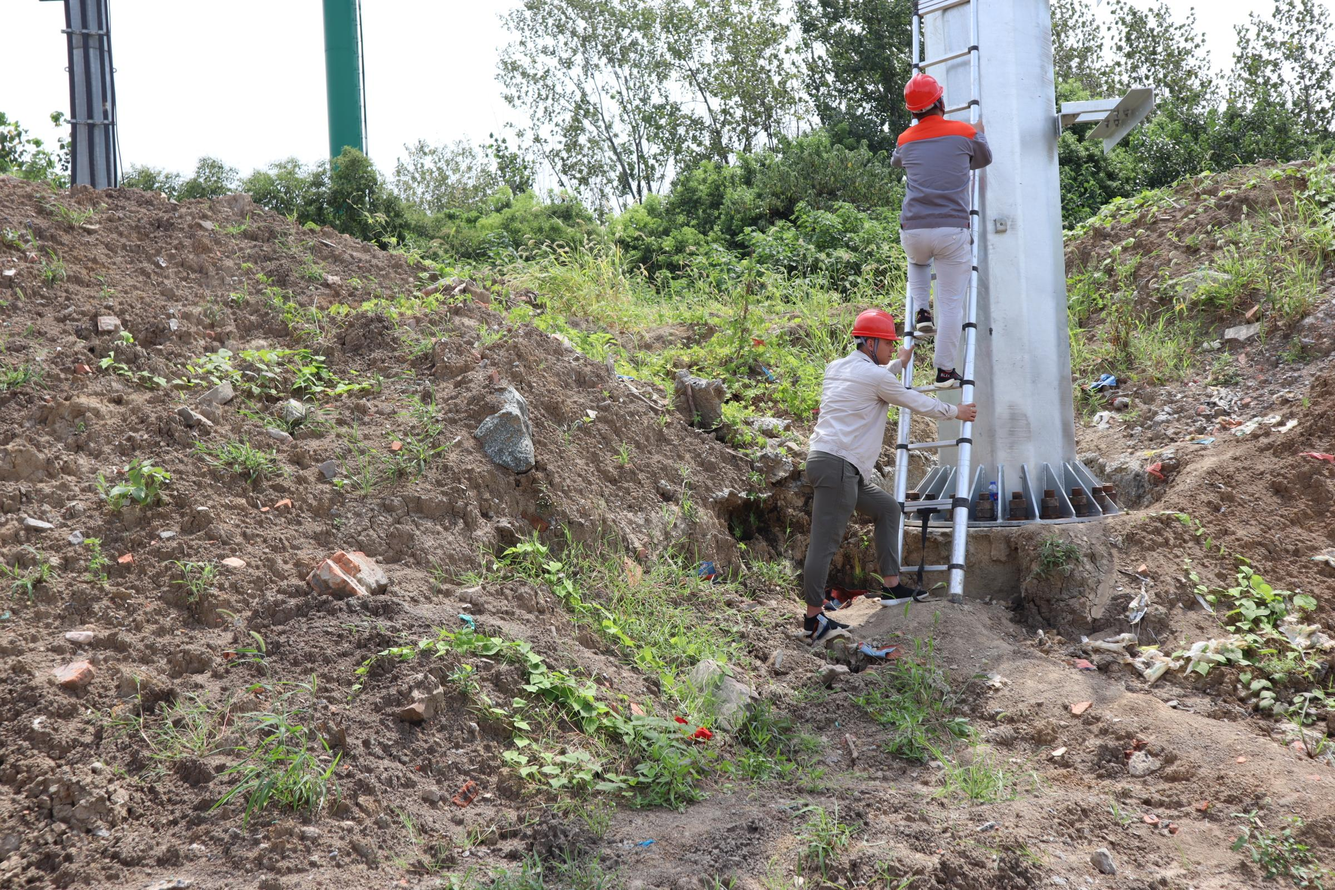未系安全绳的工作人员: (889, 72, 992, 390)
